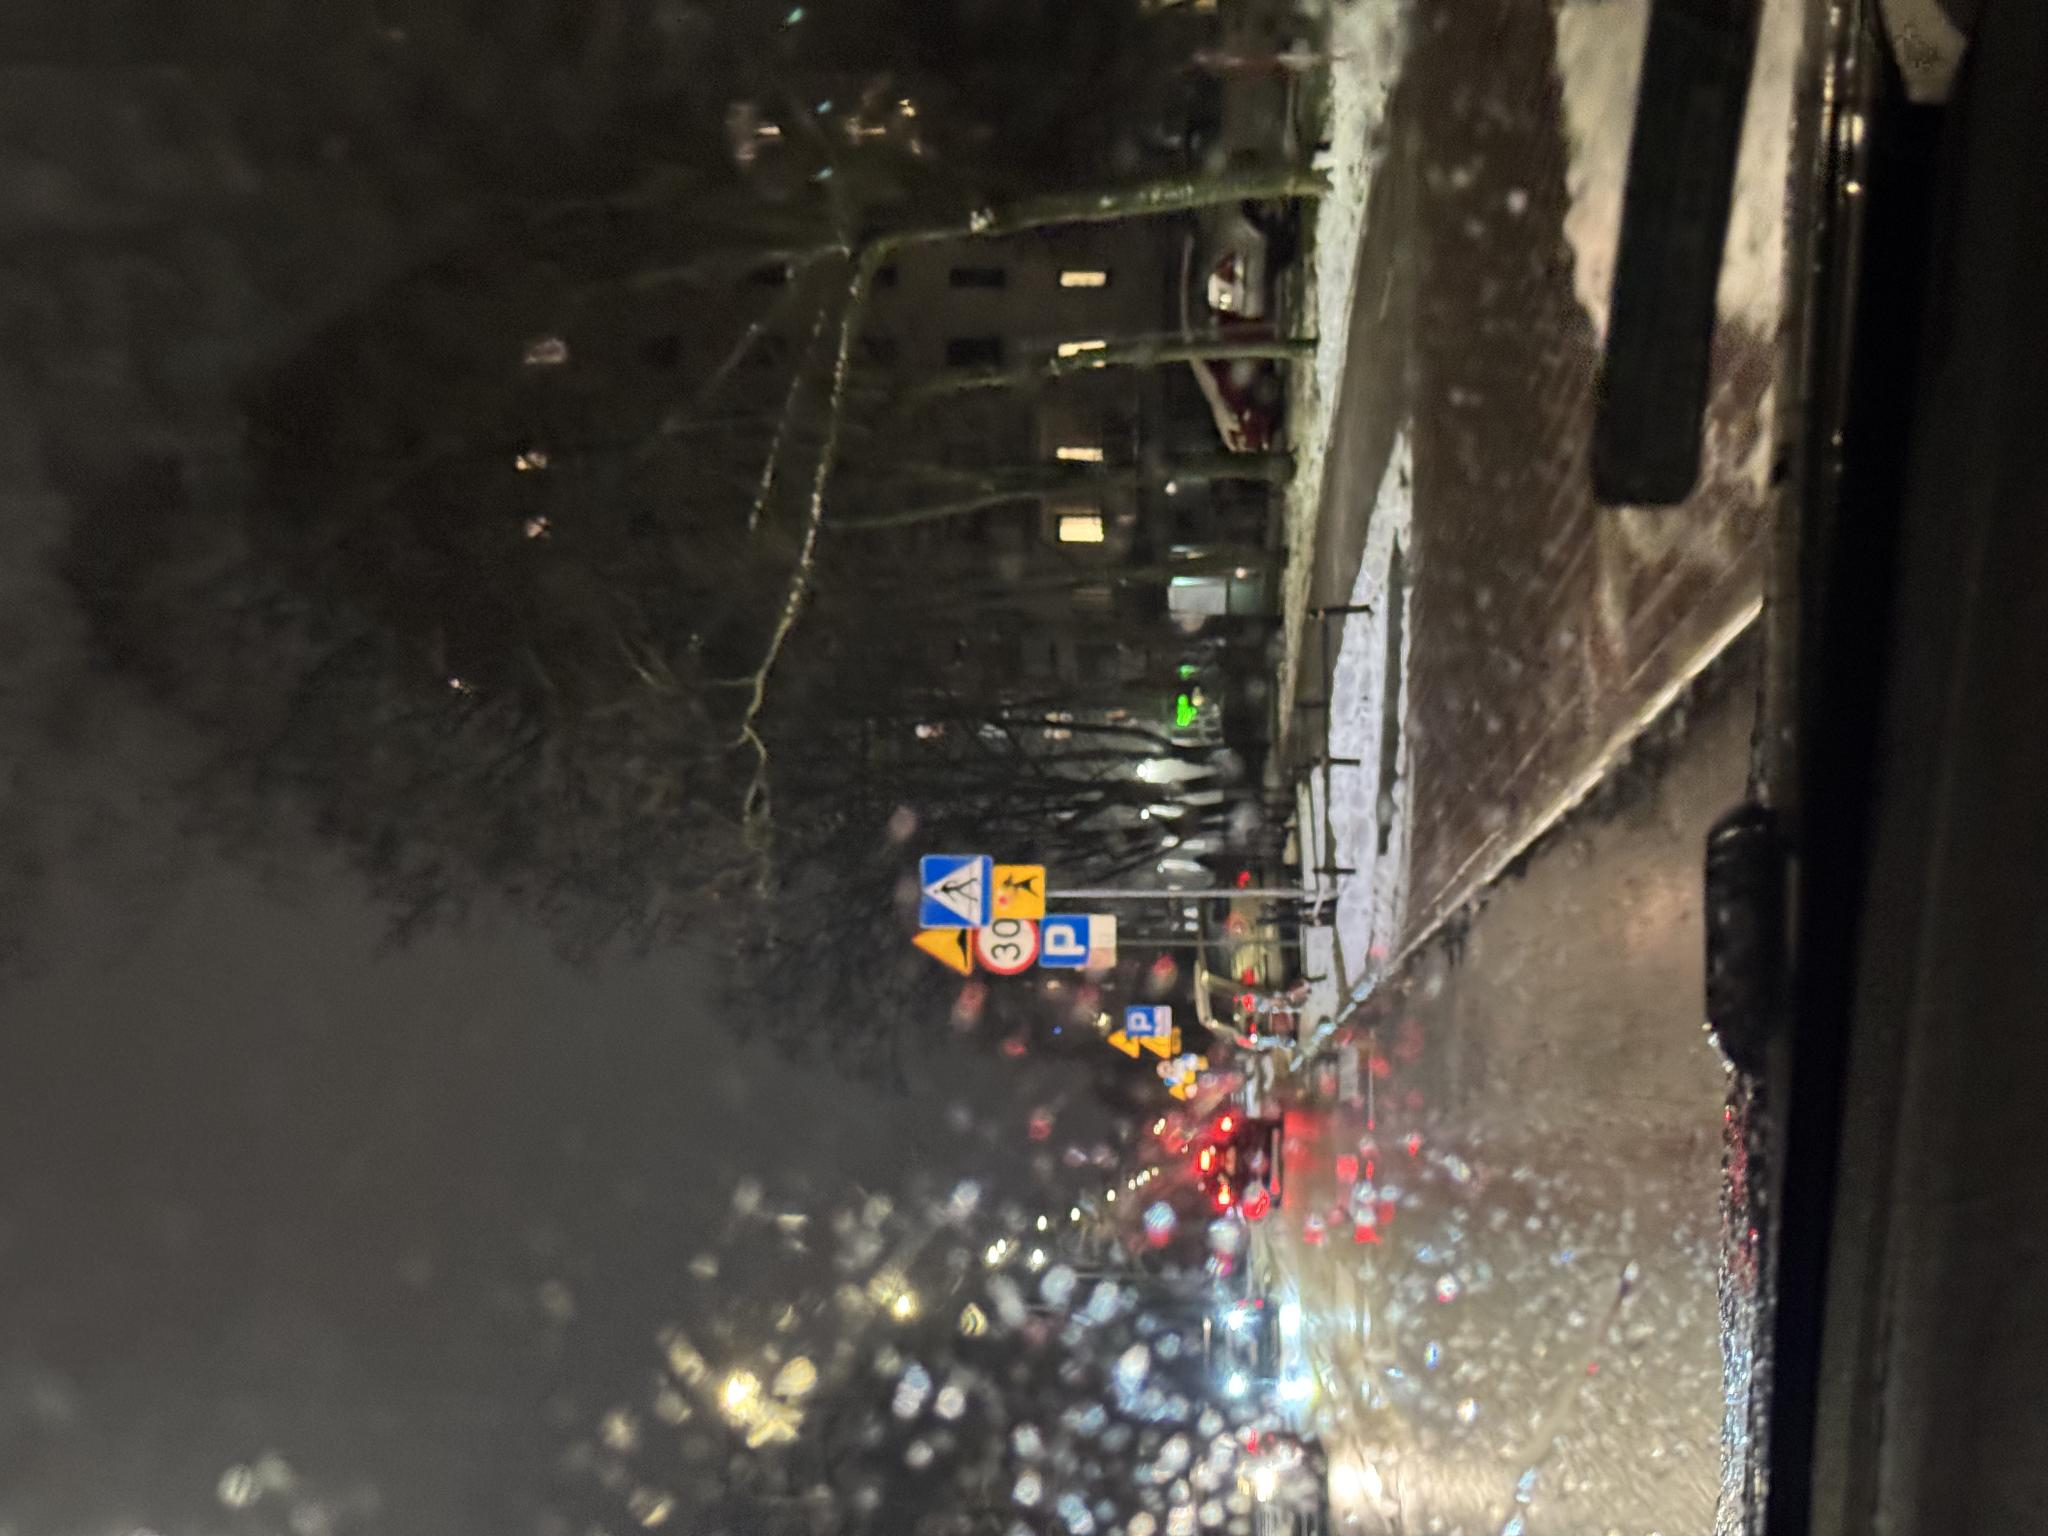information: (606, 920, 684, 992), (568, 1039, 622, 1089), (500, 1126, 531, 1155)
other: (618, 992, 674, 1049)
prohibitory: (564, 978, 616, 1039)
warning: (558, 912, 611, 975)
